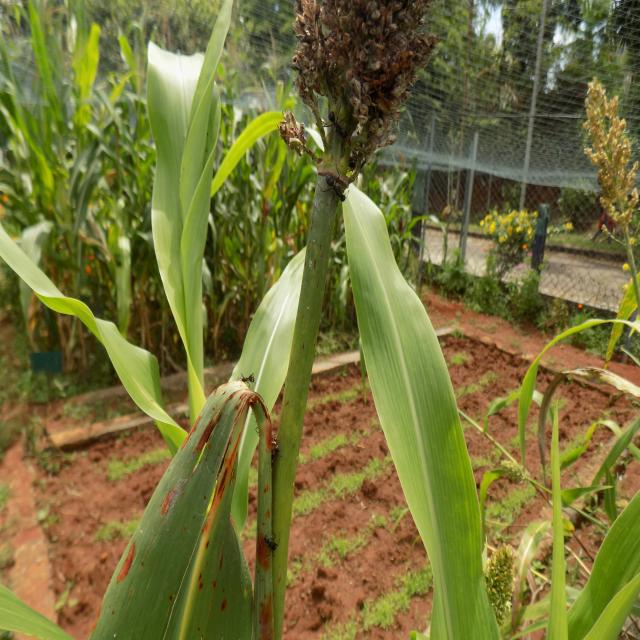millet_healthy: (331, 178, 493, 638), (118, 7, 274, 396)
